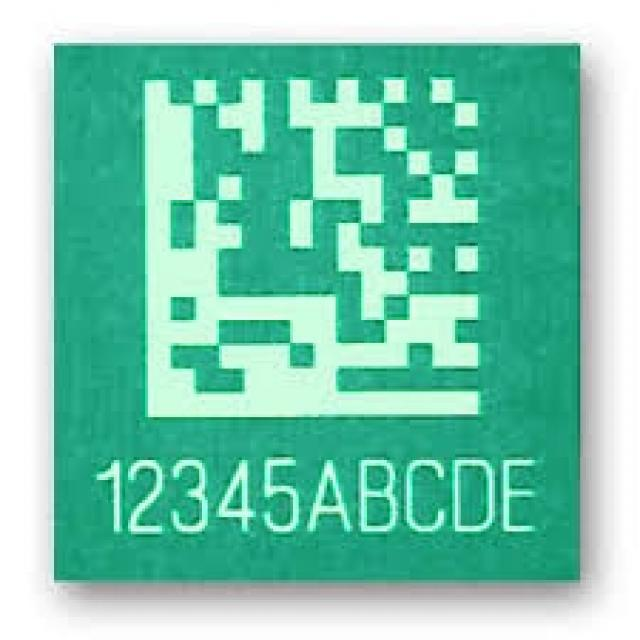Data-Matrix: (131, 69, 498, 429)
